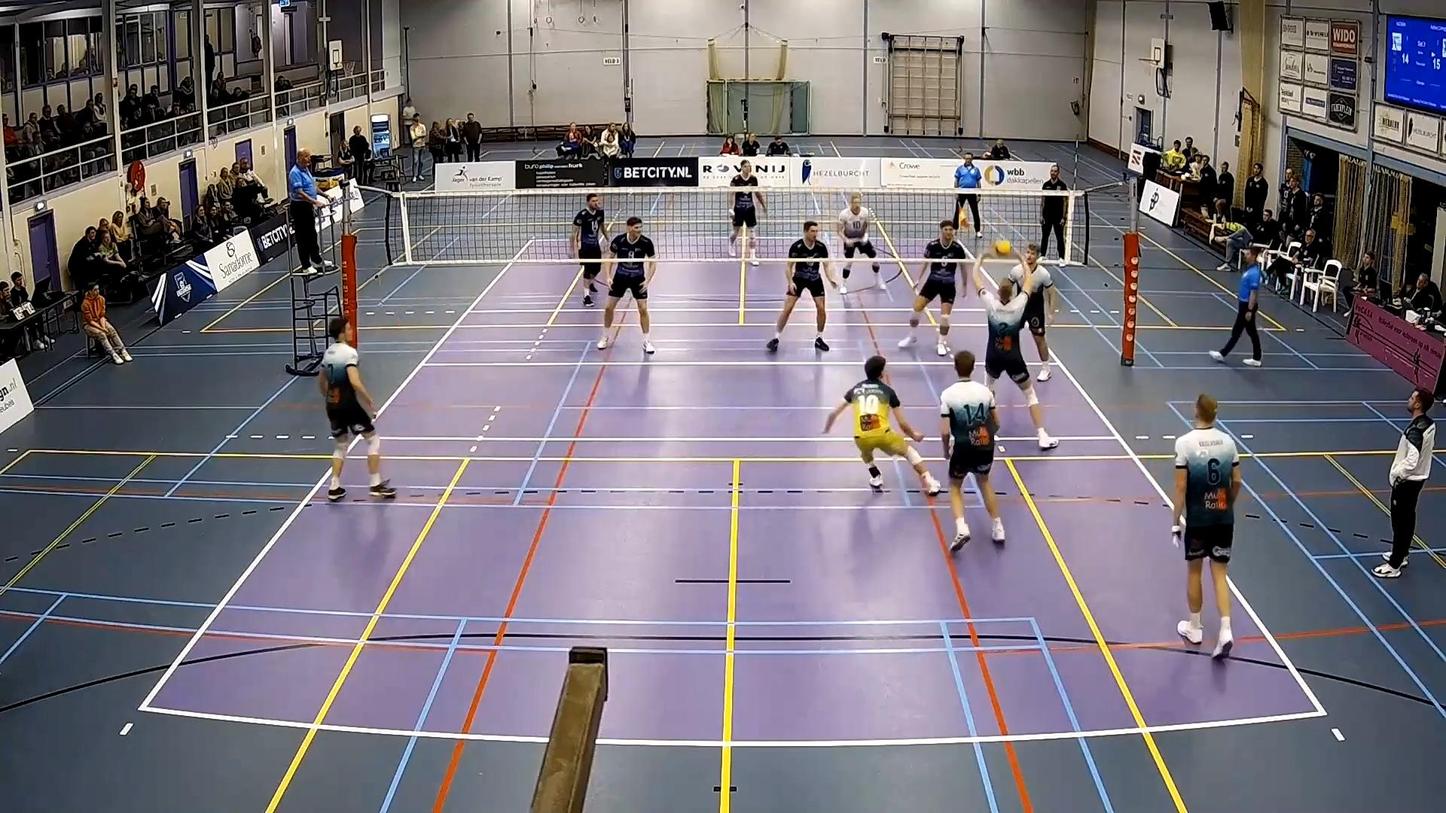Player: (1173, 394, 1240, 657), (824, 355, 941, 495), (319, 316, 395, 501), (941, 351, 1004, 551), (898, 220, 969, 355), (766, 220, 837, 351), (596, 216, 655, 353), (1009, 244, 1057, 381), (835, 193, 880, 294), (572, 193, 608, 306), (729, 160, 766, 265)
Set: (967, 256, 1057, 453)
ball: (992, 240, 1019, 256)
